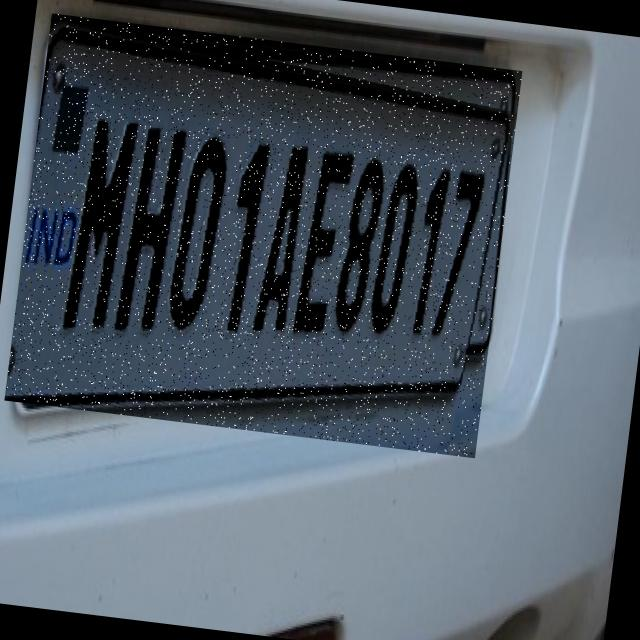Plate: (5, 14, 523, 459)
